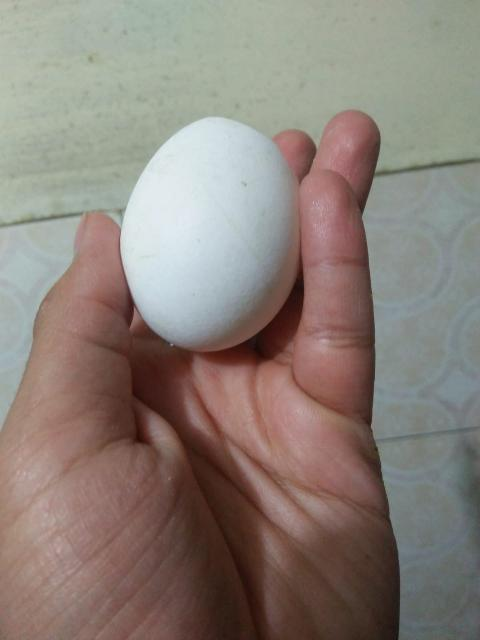Sano: (118, 113, 302, 349)
